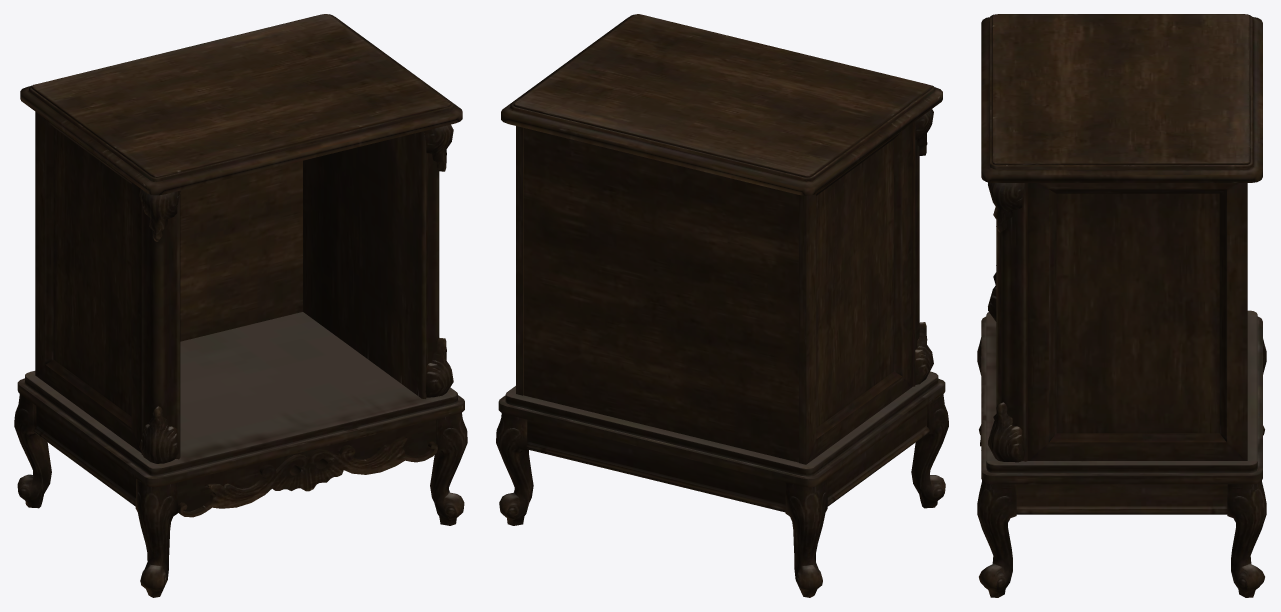
Rendered from Classic Nightstand1.gltf.
3 renders of one model, left to right at view 1: azimuth 30°, elevation 25°; view 2: azimuth 150°, elevation 25°; view 3: azimuth 270°, elevation 25°, orthographic. The views are drawn at different scales.
Visible parts, largest first — view 1: ClassicNightstand_01; view 2: ClassicNightstand_01; view 3: ClassicNightstand_01.
Boxes of the visible parts, box(x1,y1,x2,y2) form: ClassicNightstand_01: box(14, 14, 467, 597); ClassicNightstand_01: box(496, 14, 948, 597); ClassicNightstand_01: box(977, 14, 1266, 597).
Size of the model in its own units: 0.5678 by 0.7 by 0.4242.
Materials: 1 (1 with a texture image).
